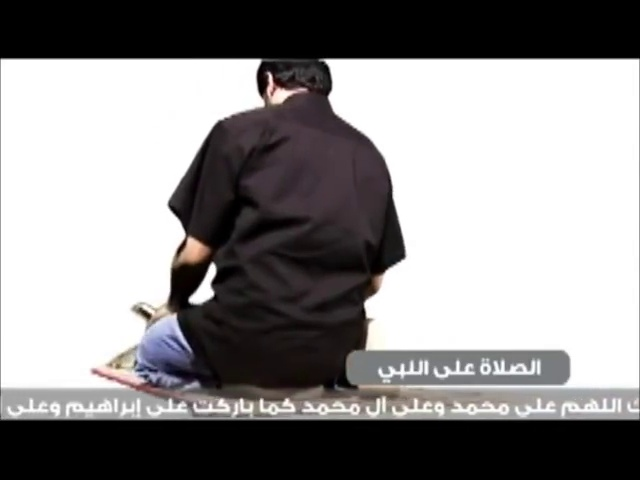sitting: (133, 59, 409, 401)
